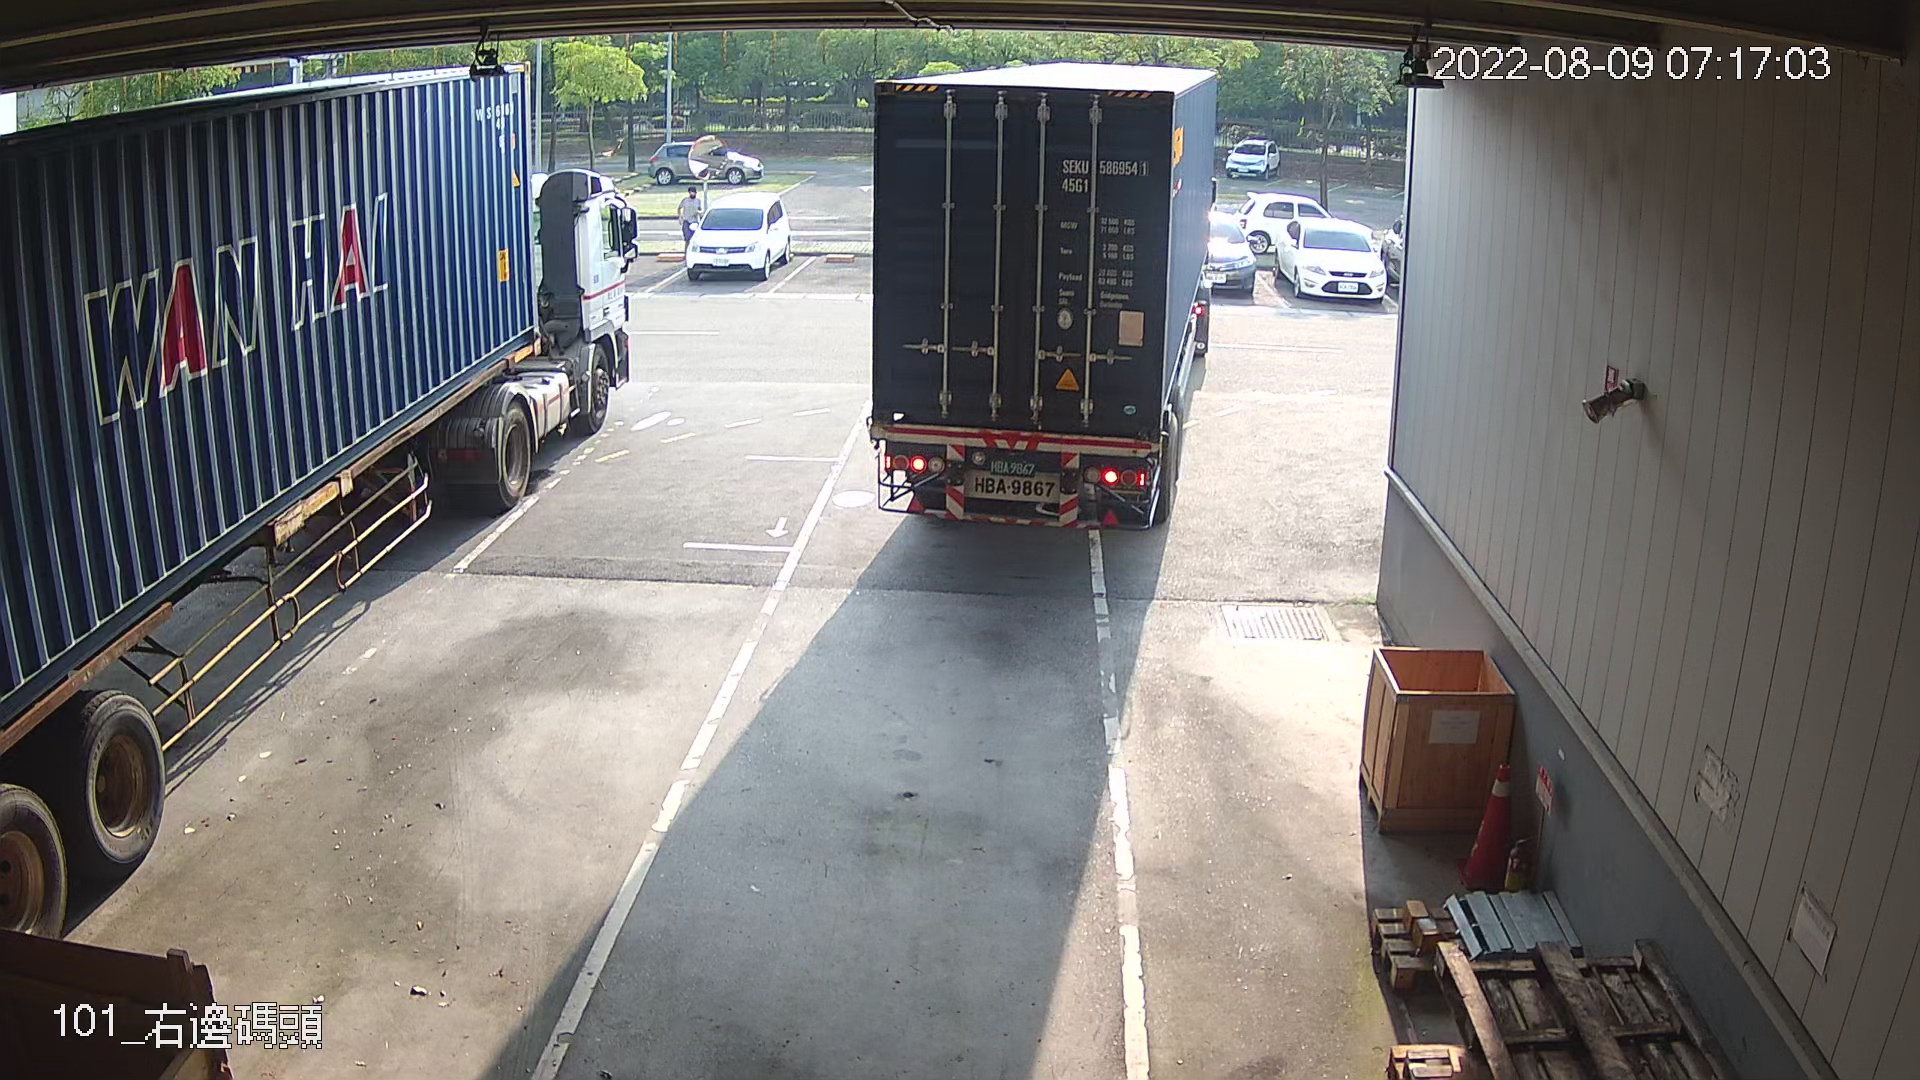container: (1054, 149, 1156, 200)
